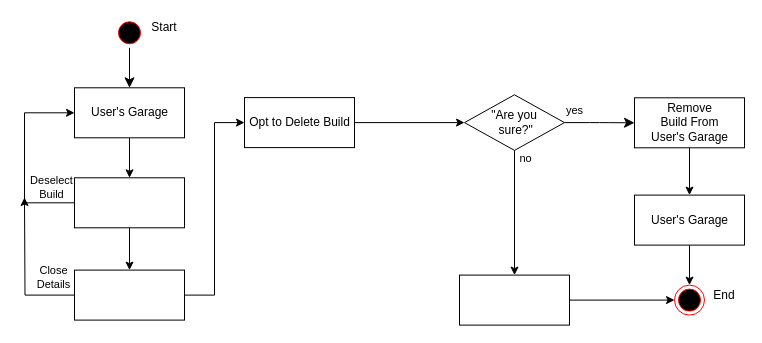
Image size: 762x343. Some labels were removed from this diagram. Each missing label, with the centre of its shape:
"Build Details Page" goes at point 514,299.
"Select a Build" goes at point 129,202.
"View Build Details" goes at point 129,294.
